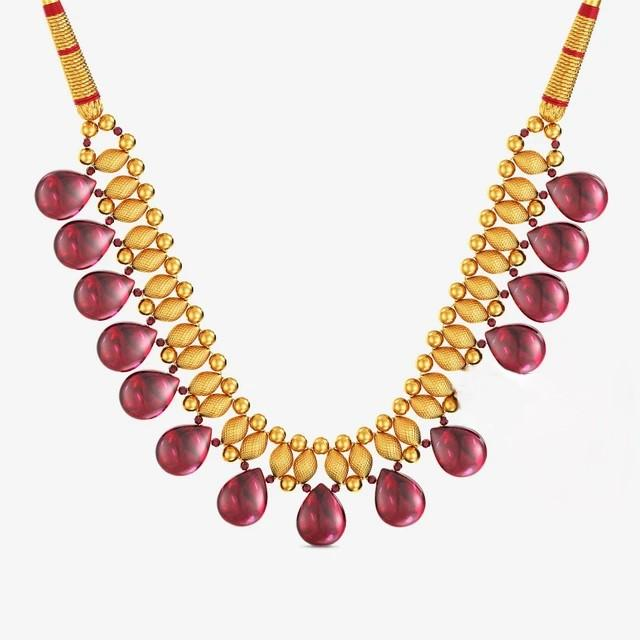missing gem: (459, 370, 511, 419), (454, 387, 462, 396), (462, 366, 469, 374)
